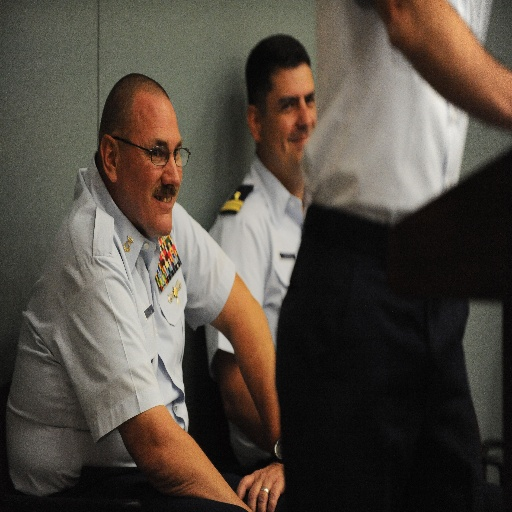hand: (244, 446, 284, 506)
